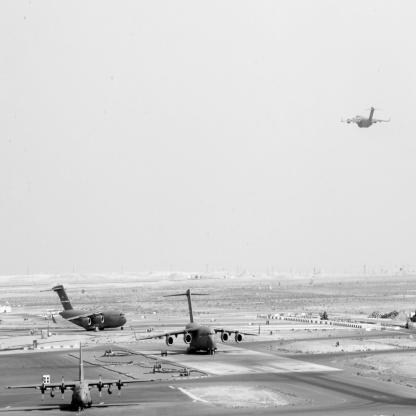C130: (6, 343, 158, 413)
C17: (135, 290, 262, 357), (41, 286, 128, 332), (342, 107, 392, 129)
